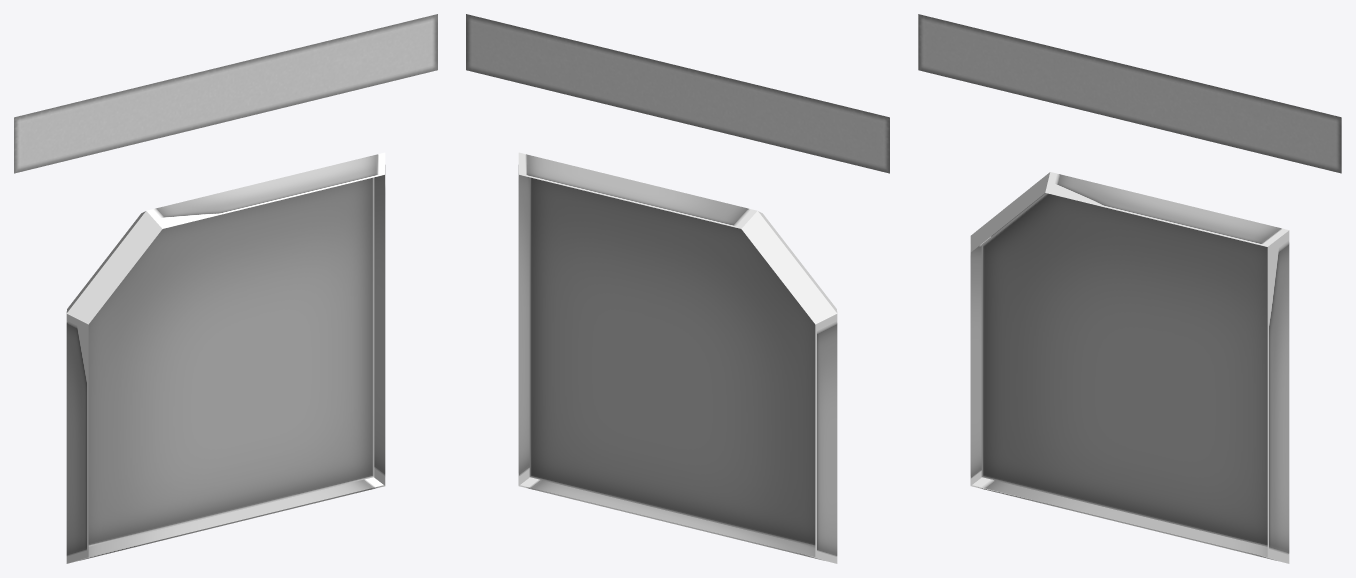
File: ItemSmall.glb
3 renders of one model, left to right at view 1: azimuth 30°, elevation 25°; view 2: azimuth 150°, elevation 25°; view 3: azimuth 330°, elevation 25°, orthographic.
Parts seen in each view (by area): view 1: object_0.001, object_0.003, object_0.002; view 2: object_0.001, object_0.003, object_0.002; view 3: object_0.001, object_0.003, object_0.002.
Boxes of the visible parts, x1,y1,x2,y2 form: object_0.001: (88,177,374,546); object_0.003: (14,14,437,173); object_0.002: (66,152,385,563); object_0.001: (529,177,815,546); object_0.003: (466,14,889,173); object_0.002: (518,152,837,563); object_0.001: (981,193,1267,546); object_0.003: (918,14,1341,173); object_0.002: (970,172,1289,563).
Bounding box in the file's own units: 100 × 104 × 8.75.
2 materials, 2 textured.
